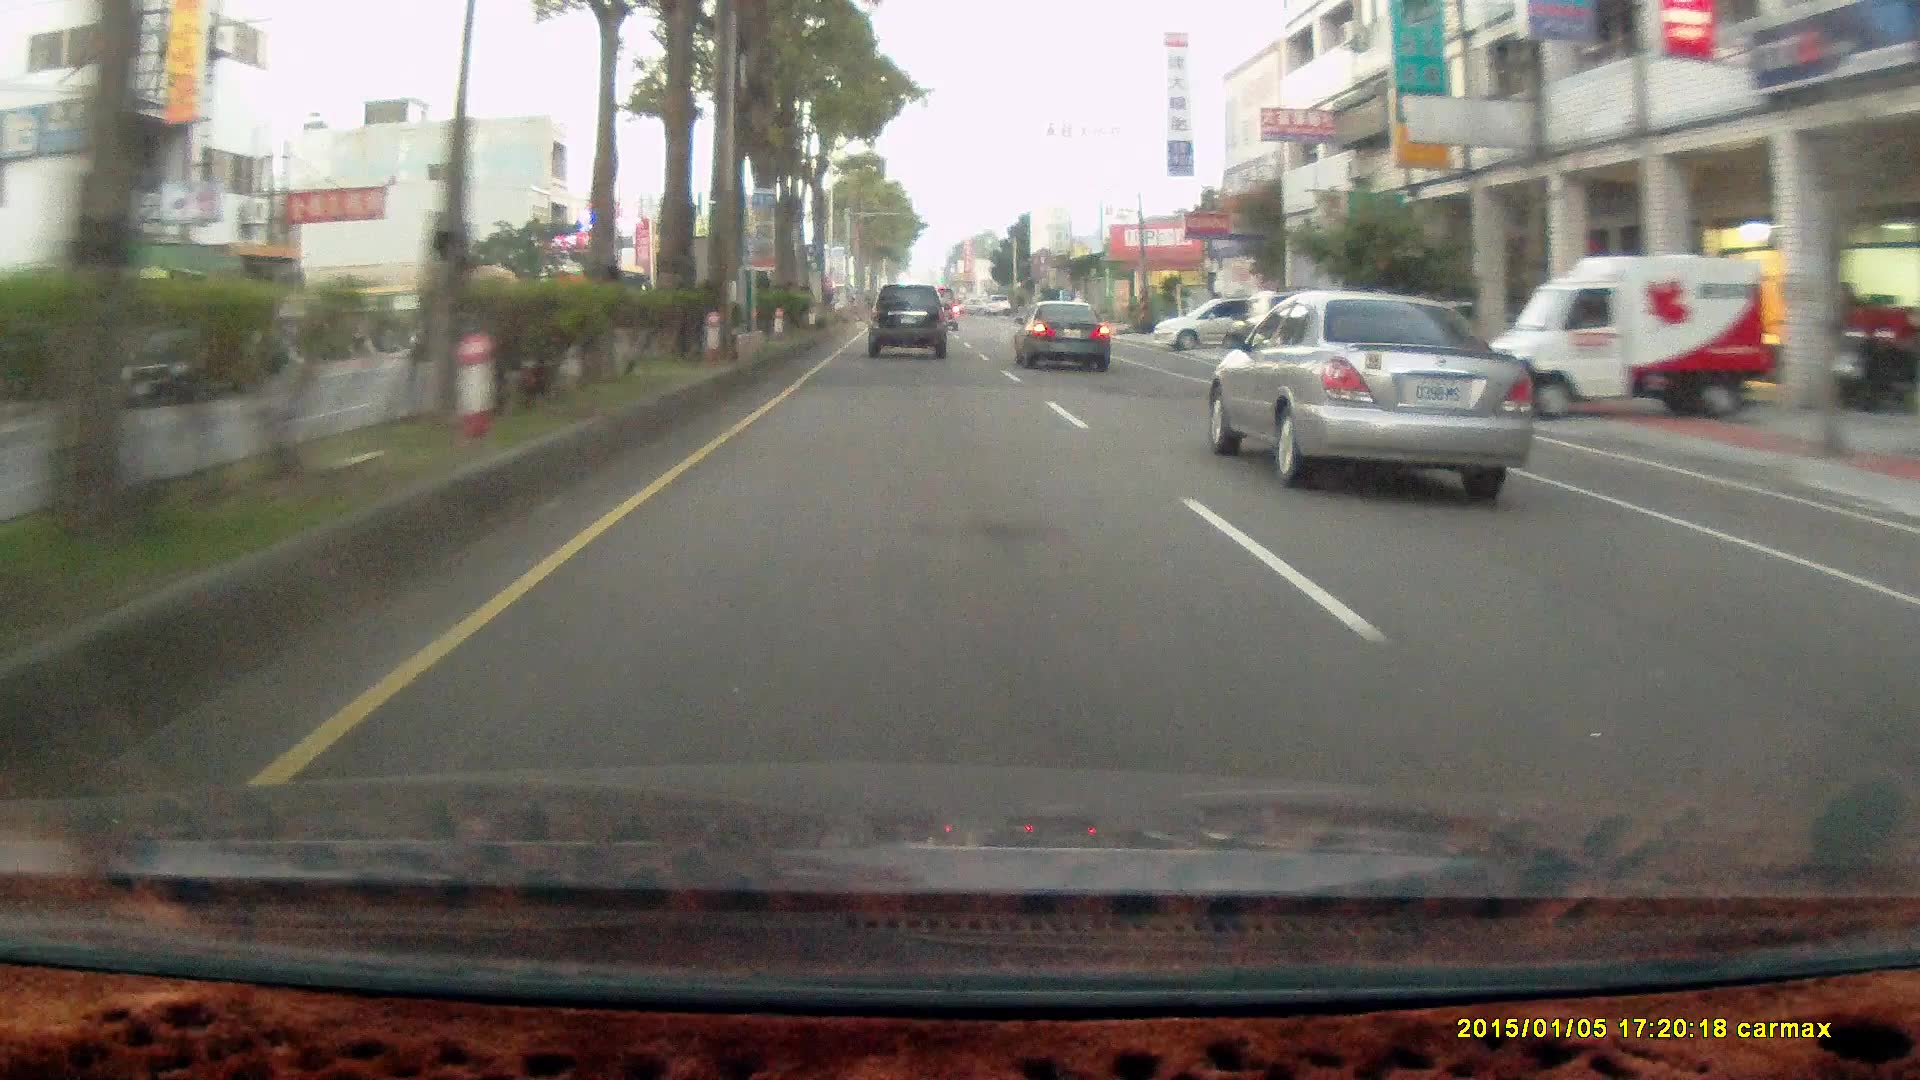vehicle: (1217, 290, 1544, 489), (1484, 255, 1775, 419), (1484, 255, 1766, 419), (1244, 286, 1356, 368), (1147, 298, 1290, 359), (1149, 295, 1292, 353), (1013, 299, 1116, 373), (1011, 299, 1109, 372), (866, 282, 951, 363), (866, 284, 947, 357)
